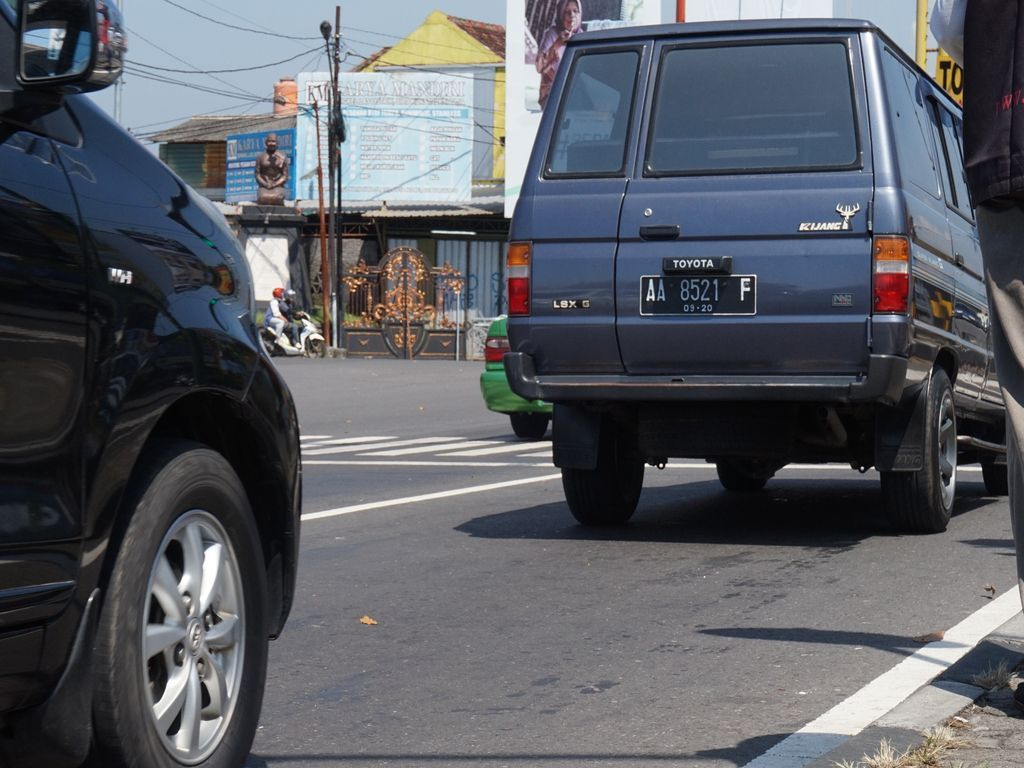plate: (644, 277, 753, 312)
